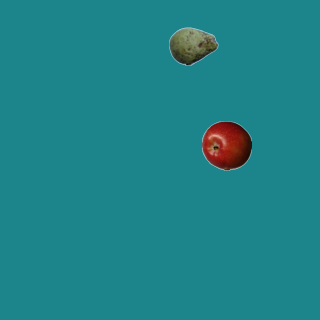Apple Braeburn: (201, 120, 251, 170)
Pear Stone: (168, 21, 218, 71)
